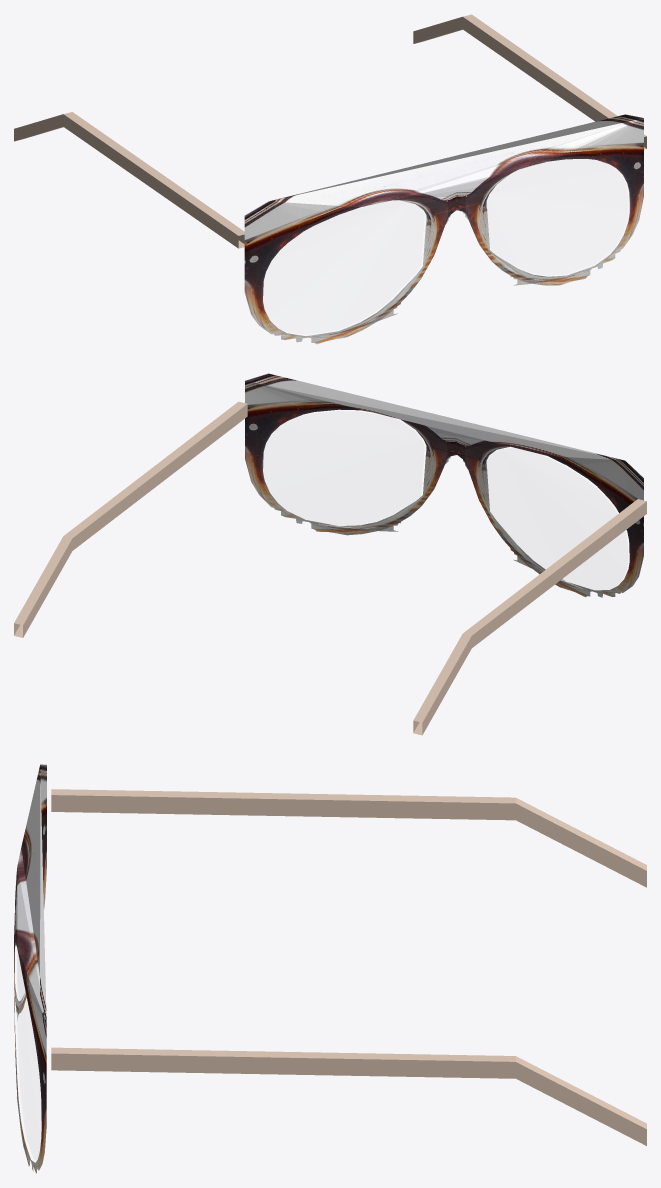
Rendered from gothamstyle-245_brown-fade.glb.
3 views of the same model, one above another, from view 1: azimuth 30°, elevation 25°; view 2: azimuth 150°, elevation 25°; view 3: azimuth 270°, elevation 25° (orthographic). The views are drawn at different scales.
Parts seen in each view (by area): view 1: frame_front, temple_viewer_left, temple_viewer_right; view 2: frame_front, temple_viewer_right, temple_viewer_left; view 3: temple_viewer_right, temple_viewer_left, frame_front.
Boxes of the visible parts, x1,y1,x2,y2 form: frame_front: (244,114,643,344); temple_viewer_left: (14,112,244,248); temple_viewer_right: (413,14,646,149); frame_front: (245,373,643,597); temple_viewer_right: (14,401,247,637); temple_viewer_left: (413,499,646,735); temple_viewer_right: (51,1047,646,1145); temple_viewer_left: (51,789,646,887); frame_front: (14,764,46,1173).
Size of the model in its own units: 0.1344 by 0.0474 by 0.136.
Materials: 3 (2 with a texture image).
